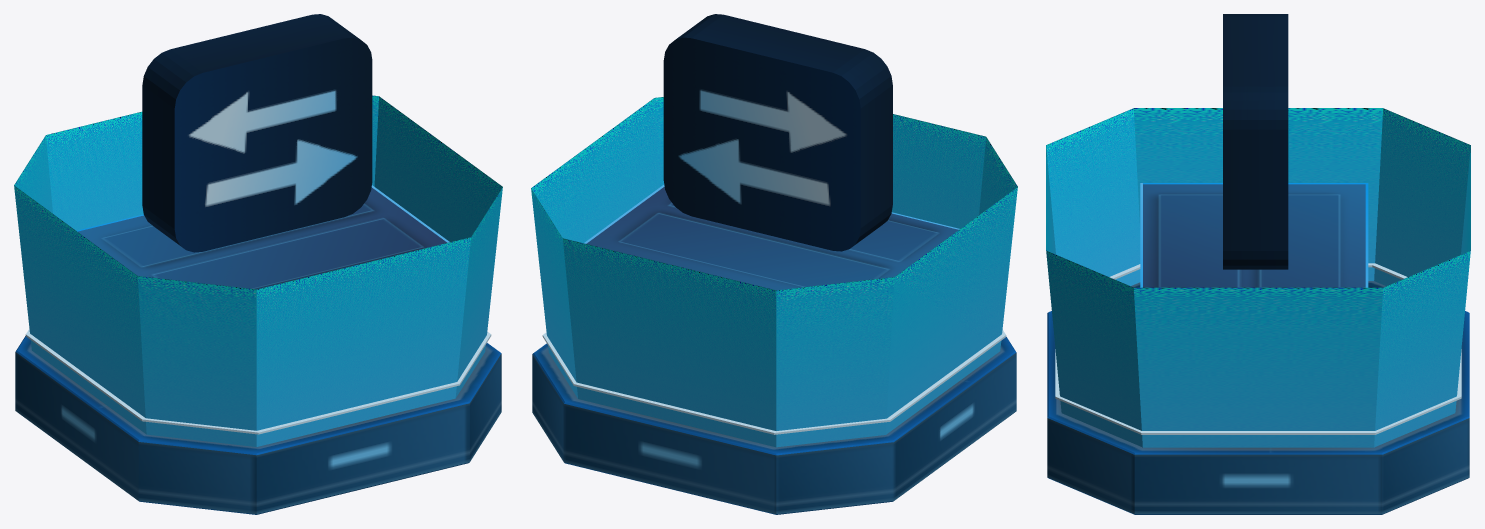
File: 交换机-含贴图.fbx
3 renders of one model, left to right at view 1: azimuth 30°, elevation 25°; view 2: azimuth 150°, elevation 25°; view 3: azimuth 270°, elevation 25°, orthographic.
Visible parts, largest first — view 1: 网络设备类; view 2: 网络设备类; view 3: 网络设备类.
Boxes of the visible parts, box(x1,y1,x2,y2) form: 网络设备类: box(14, 14, 502, 514); 网络设备类: box(531, 14, 1017, 514); 网络设备类: box(1046, 14, 1470, 514).
Bounding box in the file's own units: 5 × 4.85 × 5.
Materials: 2 (2 with a texture image).
